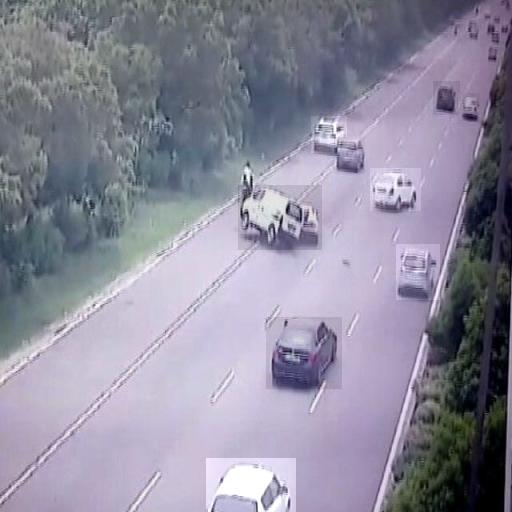小汽车: (266, 318, 342, 390), (206, 458, 296, 512), (396, 244, 440, 300), (370, 168, 421, 211), (311, 116, 347, 153), (334, 137, 365, 174), (433, 81, 460, 115), (458, 94, 480, 126)
小汽车撞小汽车: (238, 185, 322, 250)
